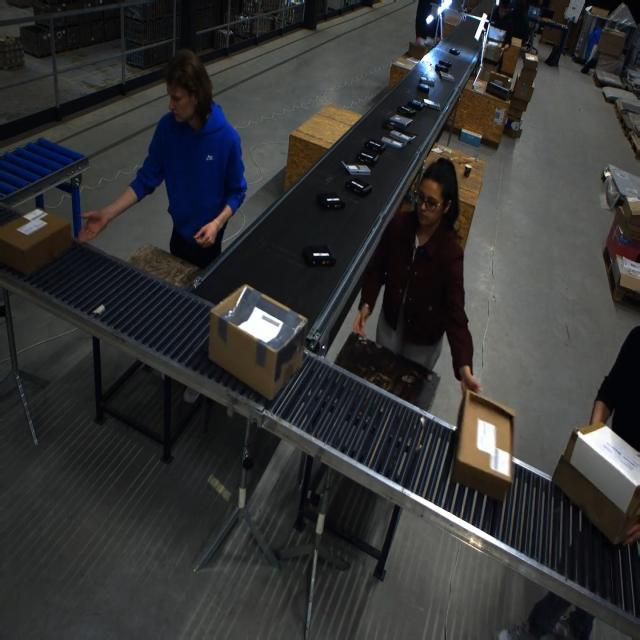box: (551, 421, 640, 547), (209, 285, 306, 399), (452, 392, 515, 501), (0, 210, 71, 276), (500, 37, 522, 77), (597, 28, 626, 56), (487, 67, 511, 100), (509, 76, 535, 105), (517, 52, 538, 85), (540, 24, 563, 46)
product: (302, 245, 334, 268), (317, 194, 346, 211), (345, 180, 371, 198), (384, 115, 412, 131), (341, 160, 369, 176), (381, 136, 406, 150), (357, 151, 380, 165), (364, 139, 387, 153), (389, 130, 412, 144), (423, 98, 442, 110), (396, 105, 416, 116), (435, 59, 452, 71), (407, 99, 424, 110), (437, 71, 454, 81), (419, 76, 435, 86), (417, 83, 430, 93), (435, 65, 443, 77), (449, 47, 460, 55)
